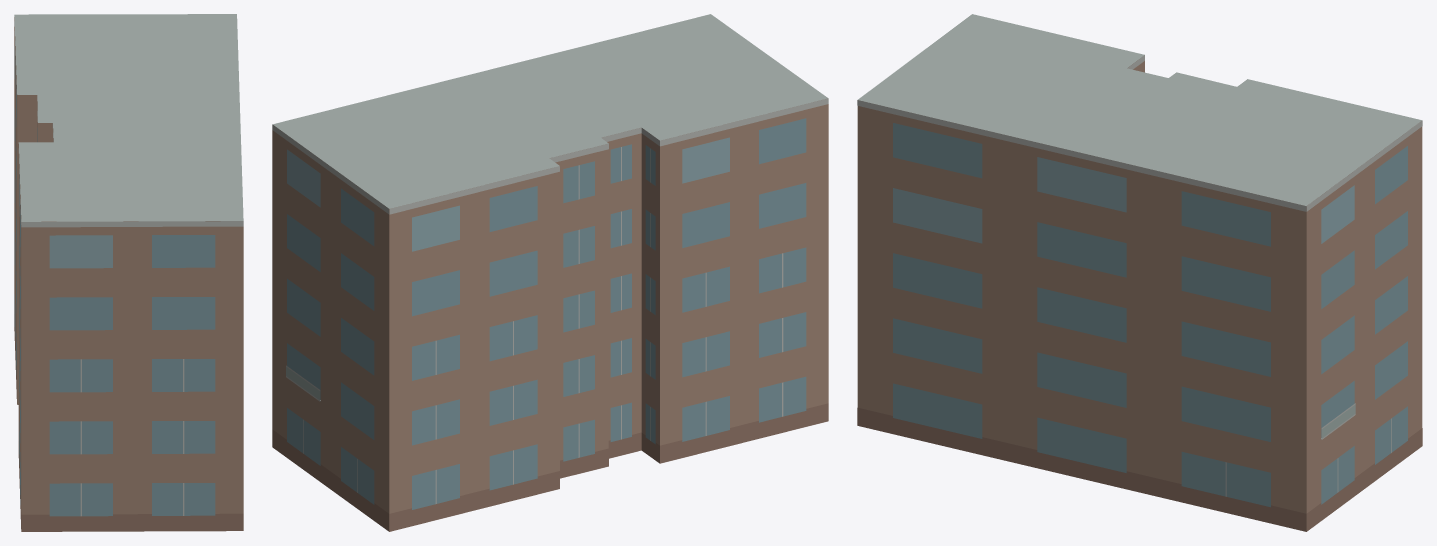
The model's file is survey-upis-32840301.glb.
The picture shows the model from 3 angles, left to right: view 1: azimuth 30°, elevation 25°; view 2: azimuth 150°, elevation 25°; view 3: azimuth 270°, elevation 25°; orthographic projection. The views are drawn at different scales.
Visible parts, largest first — view 1: survey-upis-32840301.tmp; view 2: survey-upis-32840301.tmp; view 3: survey-upis-32840301.tmp.
Boxes of the visible parts, x1,y1,x2,y2 form: survey-upis-32840301.tmp: (14,14,243,531); survey-upis-32840301.tmp: (272,14,828,531); survey-upis-32840301.tmp: (857,14,1422,531).
Size of the model in its own units: 17.34 by 13.7 by 21.55.
